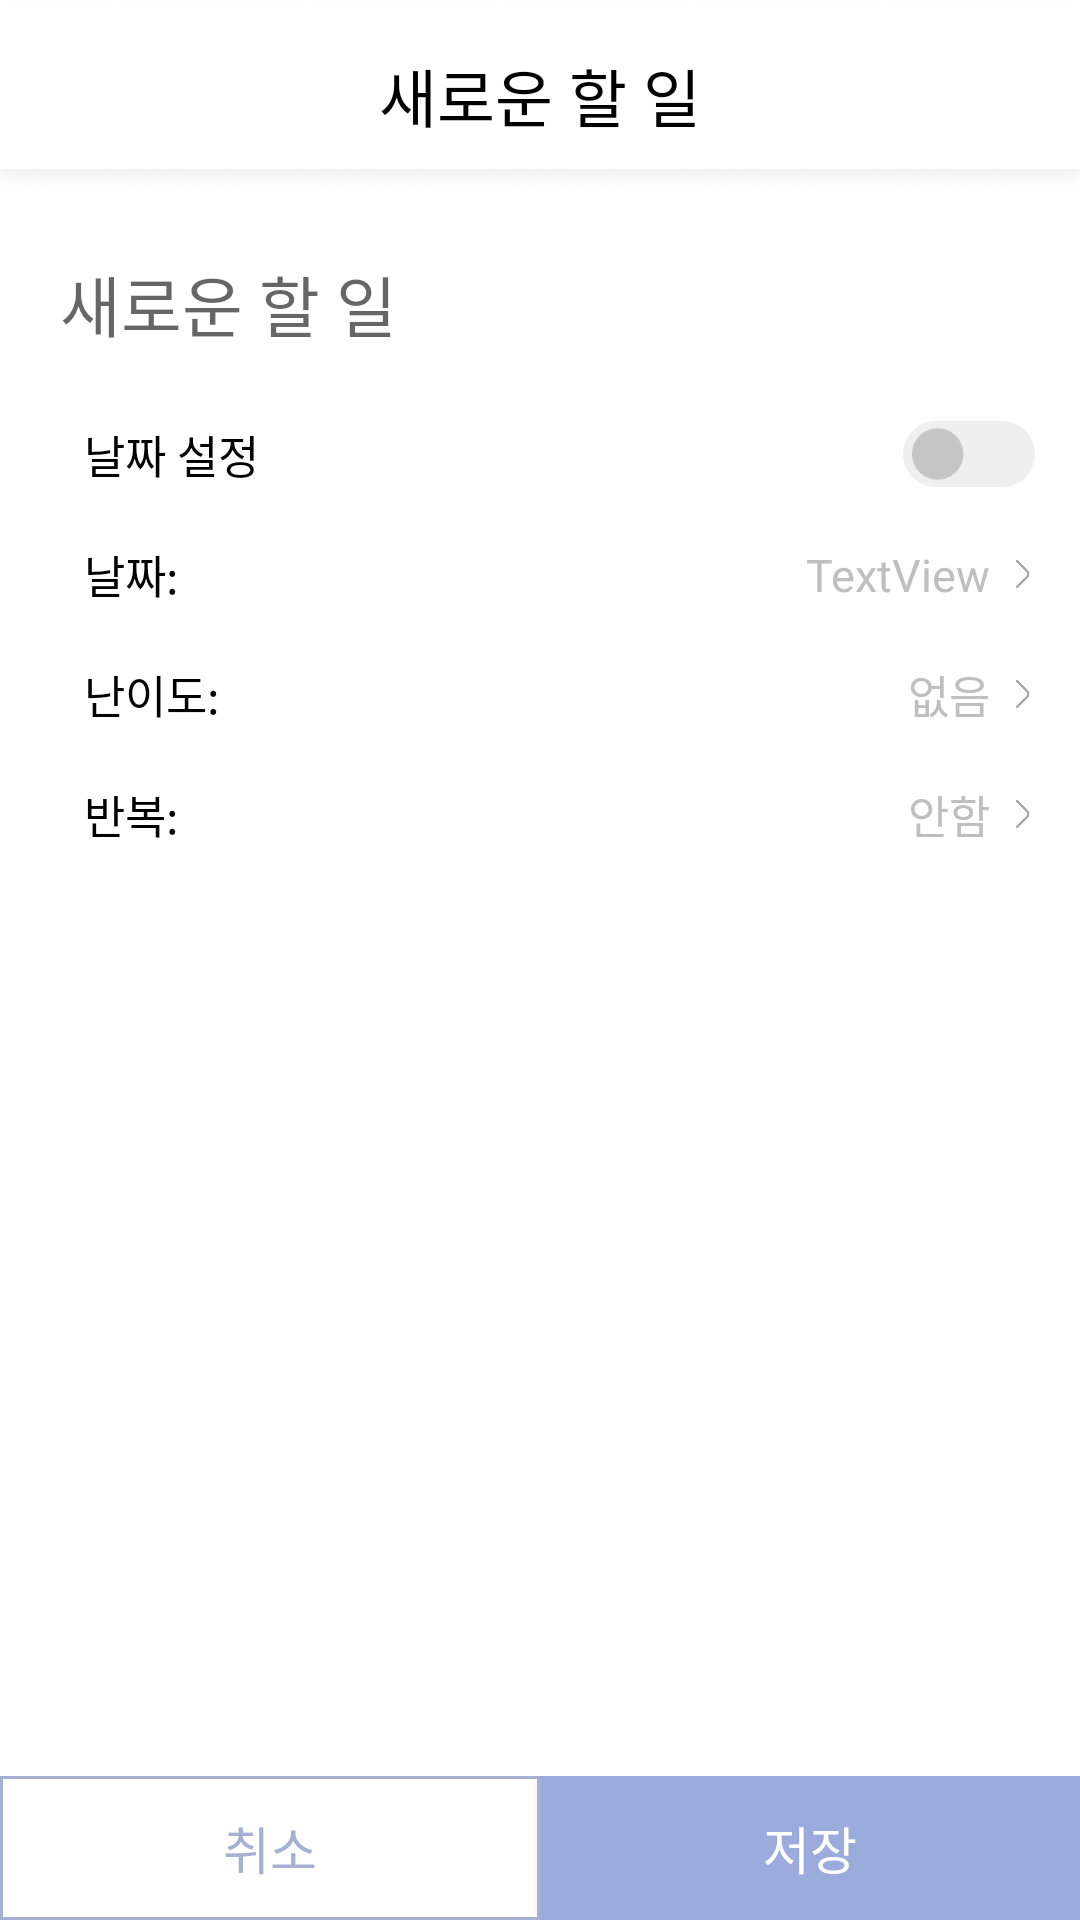

Icons on this 1080 x 1920 Android screen, each with the point to tap as (x=x, y=y):
arrow right: (x=1023, y=574), (x=1023, y=694), (x=1023, y=814)
